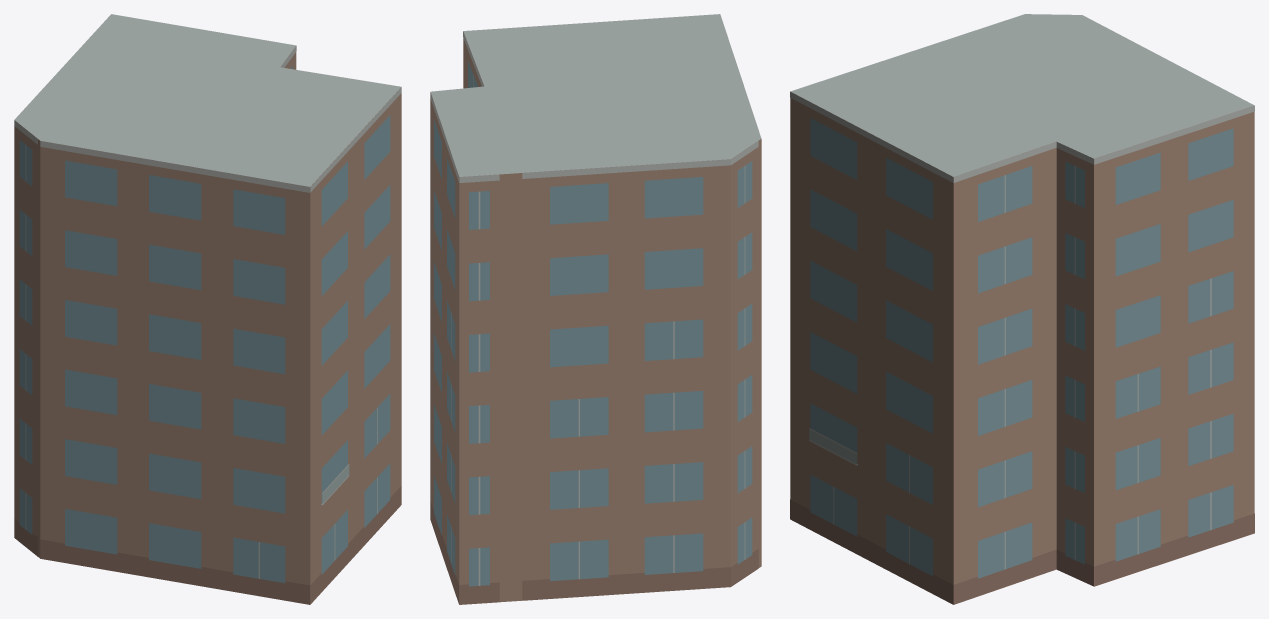
File: survey-upis-32568326.glb
3 views of the same model, side by side, from view 1: azimuth 30°, elevation 25°; view 2: azimuth 150°, elevation 25°; view 3: azimuth 270°, elevation 25° (orthographic). The views are drawn at different scales.
Visible parts, largest first — view 1: survey-upis-32568326.tmp; view 2: survey-upis-32568326.tmp; view 3: survey-upis-32568326.tmp.
Part boxes in pixels (x1,y1,x2,y2): survey-upis-32568326.tmp: (14,14,401,604); survey-upis-32568326.tmp: (430,14,761,604); survey-upis-32568326.tmp: (790,14,1254,604).
Size of the model in its own units: 13.98 by 17.1 by 16.84.
